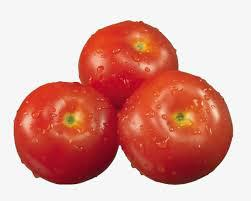tomato: (116, 72, 230, 184), (15, 81, 121, 183), (79, 20, 178, 99)
